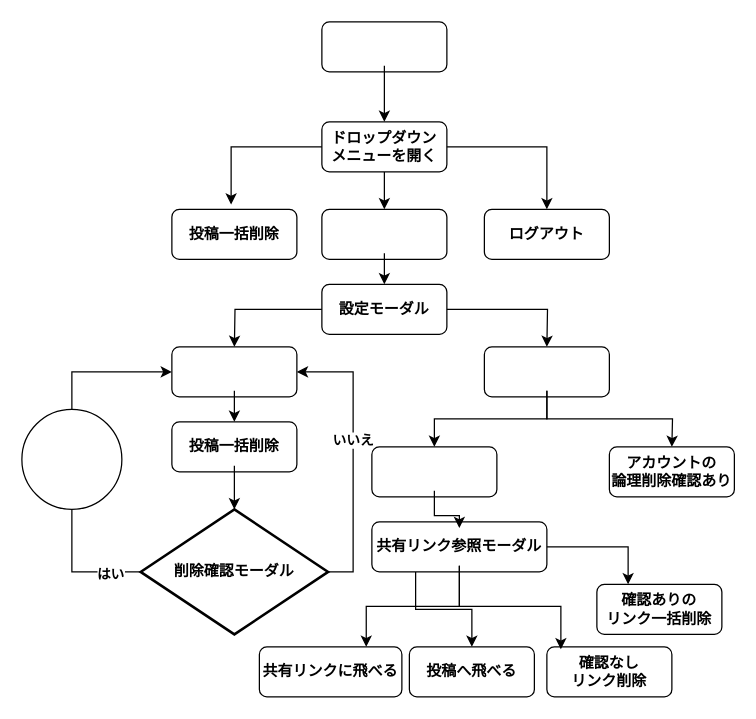
Some shapes in this 756 by 719 pixel diagram are drawn without their labels. Here are the shapes that lost their labels. From the top down, the box of each, then its label:
(321, 21, 447, 72): メインページ
(321, 208, 447, 259): 設定
(171, 346, 297, 397): 一般
(483, 346, 609, 397): データ管理
(21, 408, 122, 509): データの削除
(371, 446, 497, 497): 共有リンク一覧
